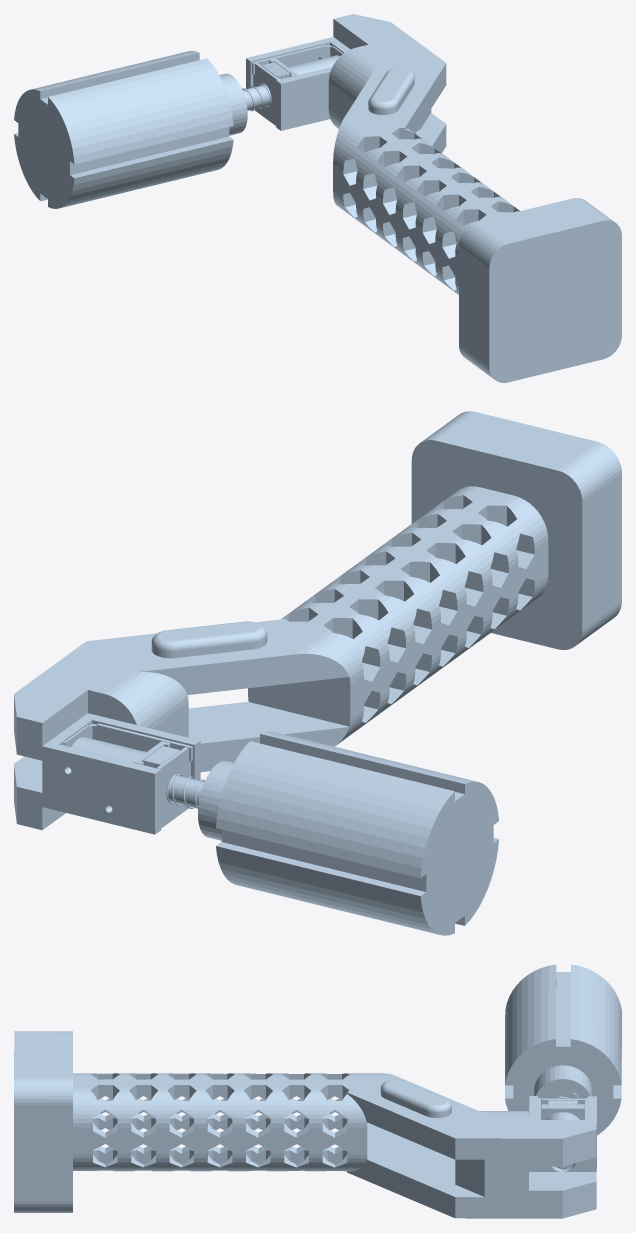
File: Motor Actuated Mallet.glb
3 views of the same model, one above another, from view 1: azimuth 30°, elevation 25°; view 2: azimuth 150°, elevation 25°; view 3: azimuth 270°, elevation 25° (orthographic). The views are drawn at different scales.
Size of the model in its own units: 131 by 50 by 207.
